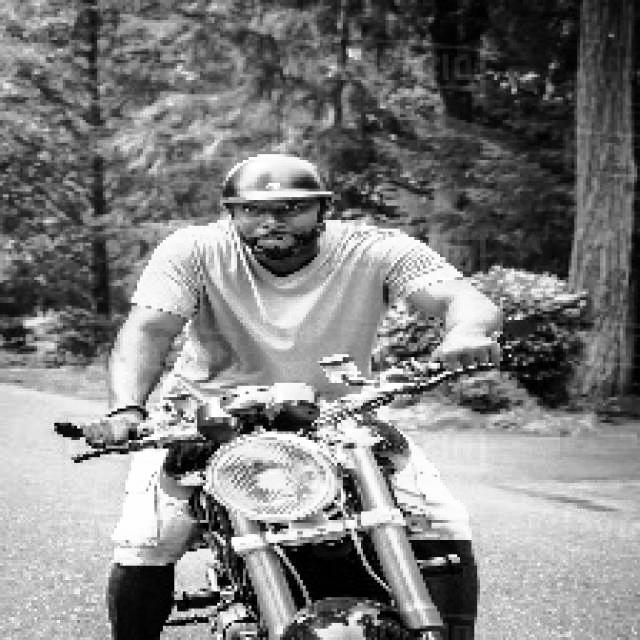Bike: (132, 380, 454, 640)
